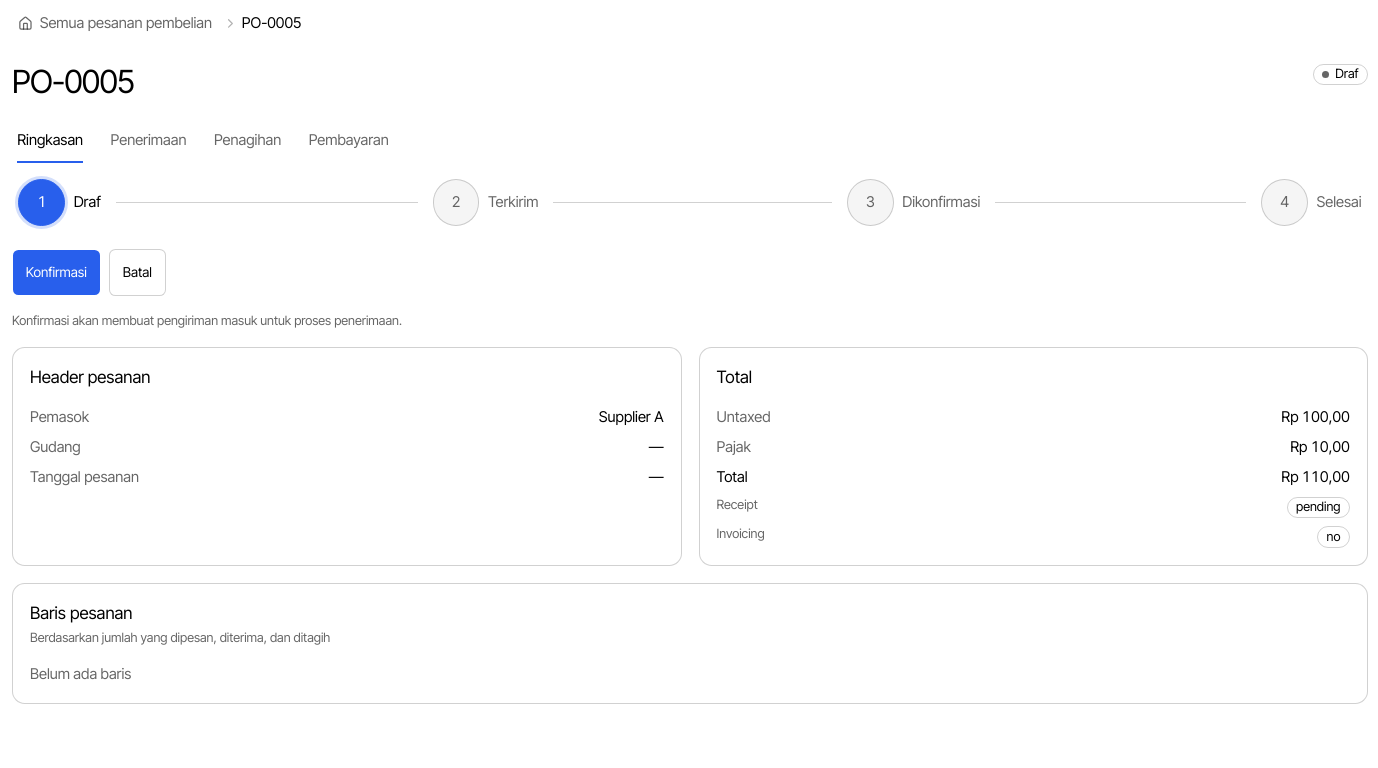
Test: PurchaseOrderDetail branches4 › shows the not-confirmed branch on the receipt tab in draft
Expected: the heading "PO-0005" is shown, [12,64,134,100]
Click the tab "Penerimaan". click: (148, 141)
box: [110,117,187,164]
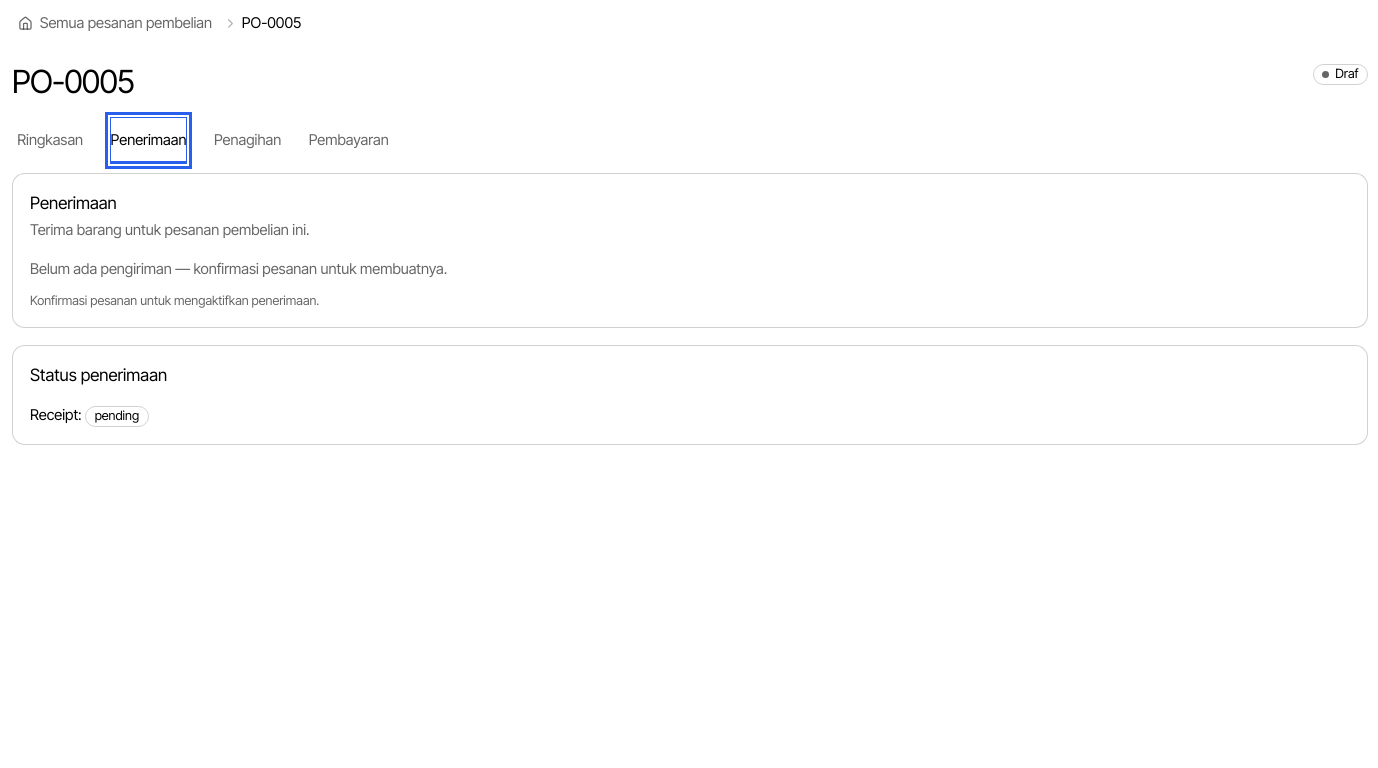
Now the text "Belum ada pengiriman — konfirmasi pesanan untuk membuatnya." is shown, box [30,260,447,278]
